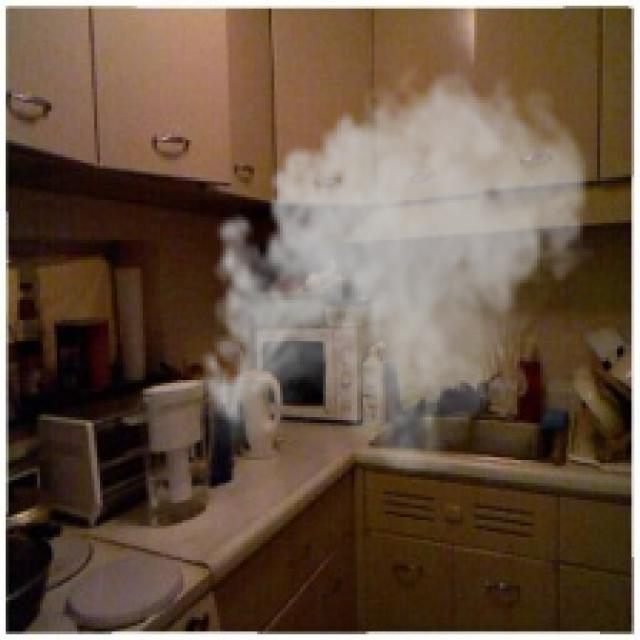smoke: (189, 57, 597, 474)
